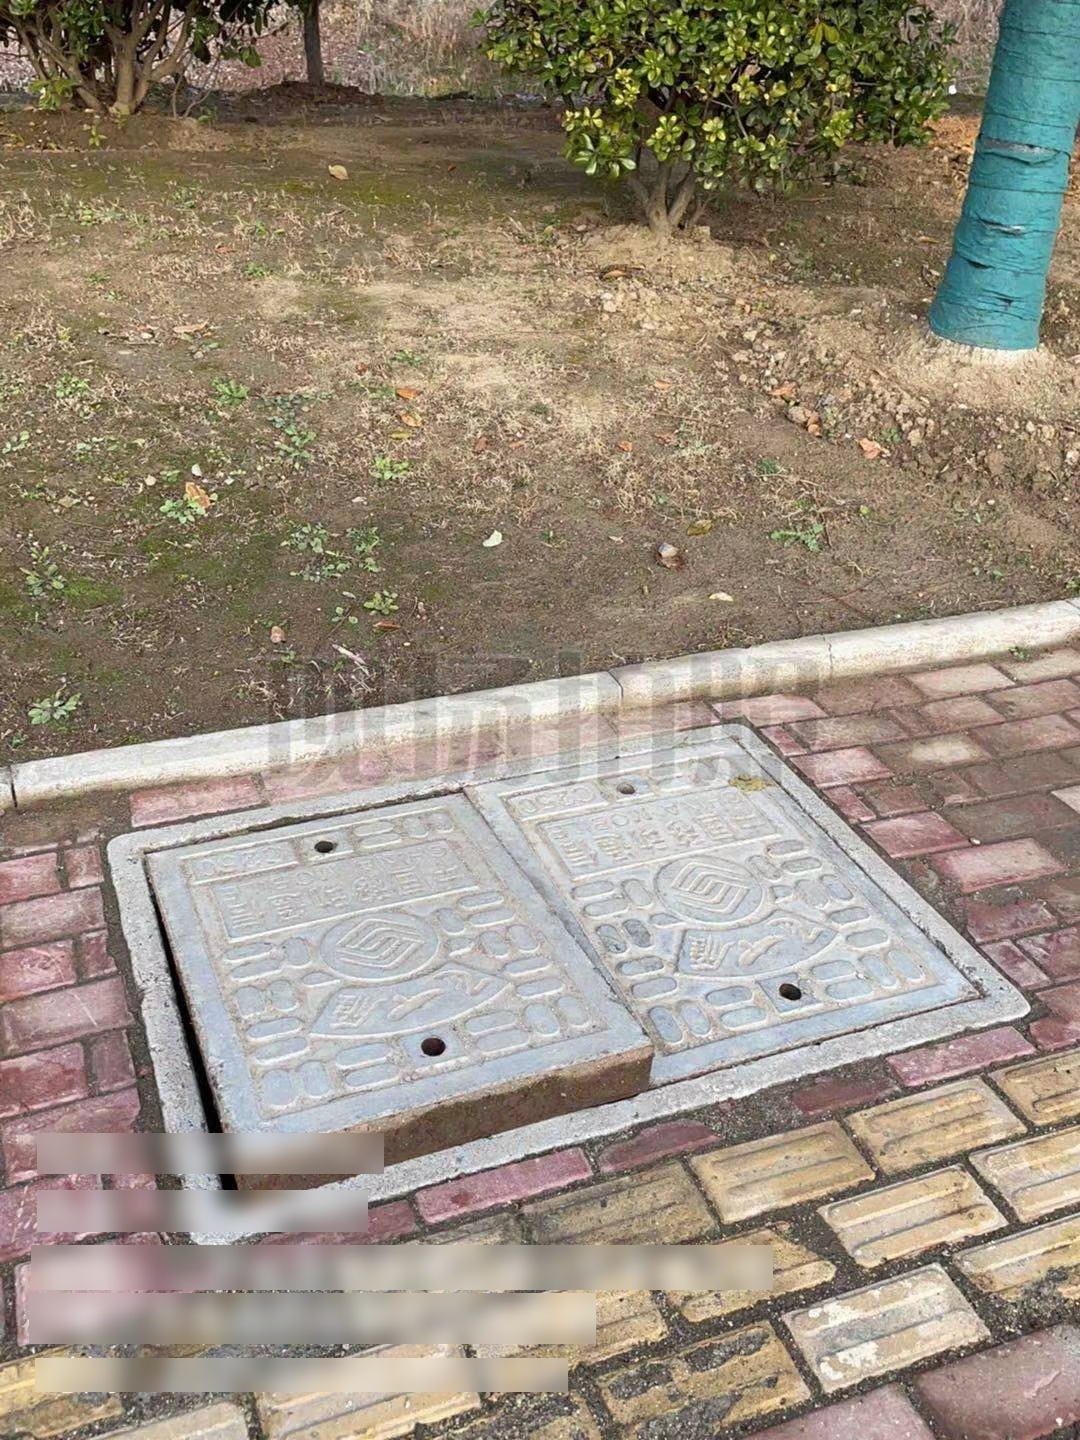uncovered: (104, 720, 1041, 1254)
